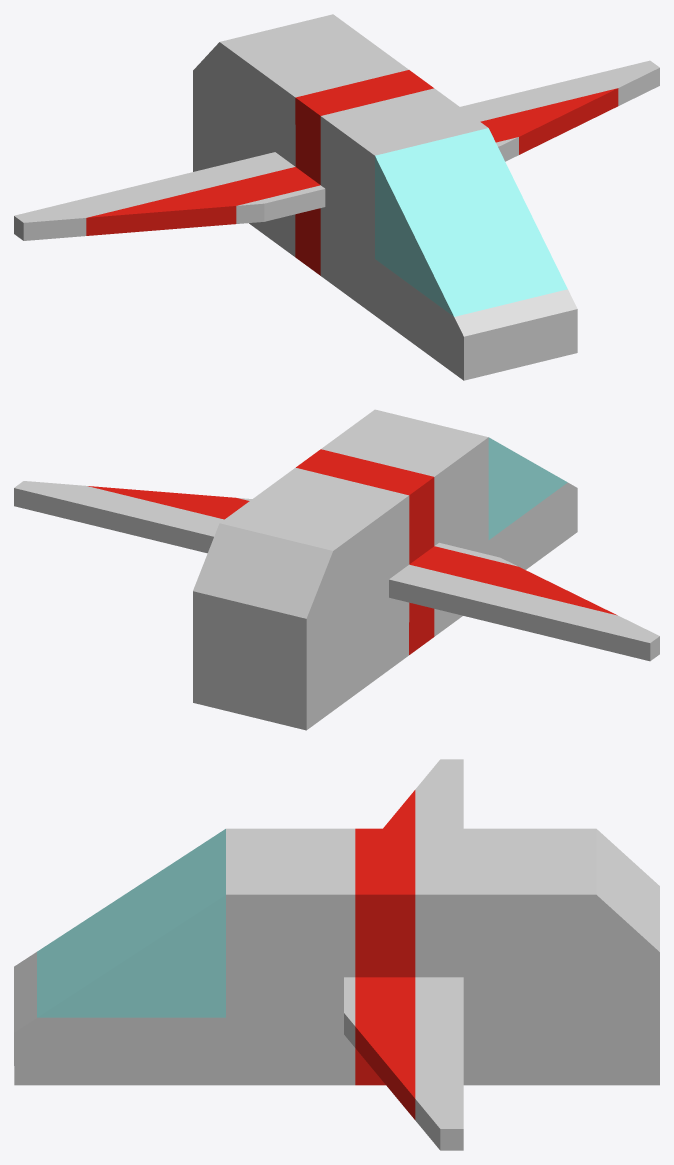
The model's file is Spaceships.fbx.
The picture shows the model from 3 angles, top to bottom: view 1: azimuth 30°, elevation 25°; view 2: azimuth 150°, elevation 25°; view 3: azimuth 270°, elevation 25°; orthographic projection. The views are drawn at different scales.
Parts seen in each view (by area): view 1: Object001; view 2: Object001; view 3: Object001.
Part boxes in pixels (x1=…): Object001: x1=14, y1=14, x2=659, y2=380; Object001: x1=14, y1=409, x2=659, y2=730; Object001: x1=14, y1=759, x2=659, y2=1150.
Size of the model in its own units: 70.46 by 51.99 by 16.93.
